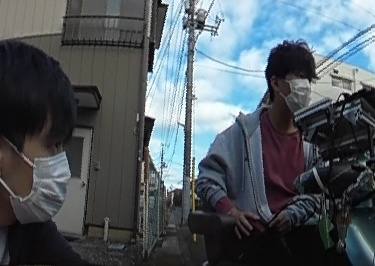person: (205, 36, 315, 243)
